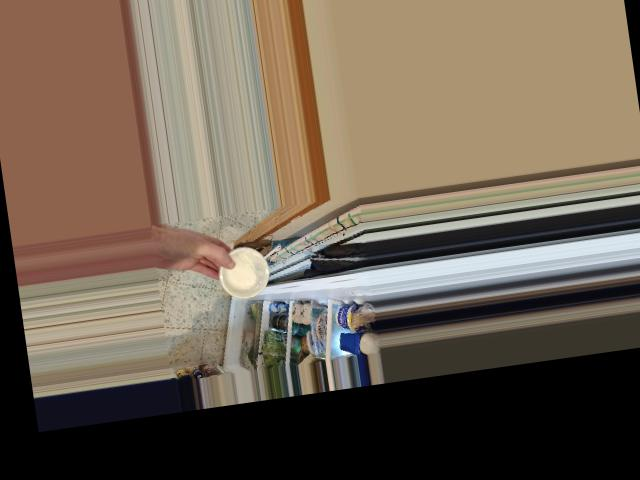cotage: (212, 242, 268, 294)
